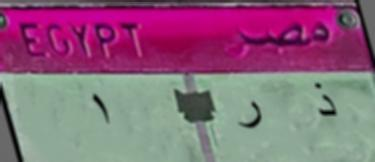1: (89, 85, 115, 132)
raa: (233, 95, 266, 136)
zaal: (308, 79, 342, 130)
